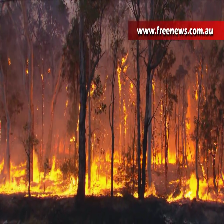fire_h: (1, 144, 130, 198), (92, 143, 197, 164), (167, 171, 224, 203), (117, 51, 137, 138), (185, 63, 202, 162), (159, 101, 170, 140), (40, 73, 44, 80), (25, 69, 29, 74)
fire_l: (144, 181, 158, 198), (87, 81, 96, 96), (63, 99, 69, 115), (76, 116, 80, 131), (151, 78, 155, 91), (7, 56, 12, 65), (132, 191, 138, 198), (69, 136, 76, 142), (92, 133, 97, 141), (78, 103, 81, 111), (47, 67, 50, 73)
